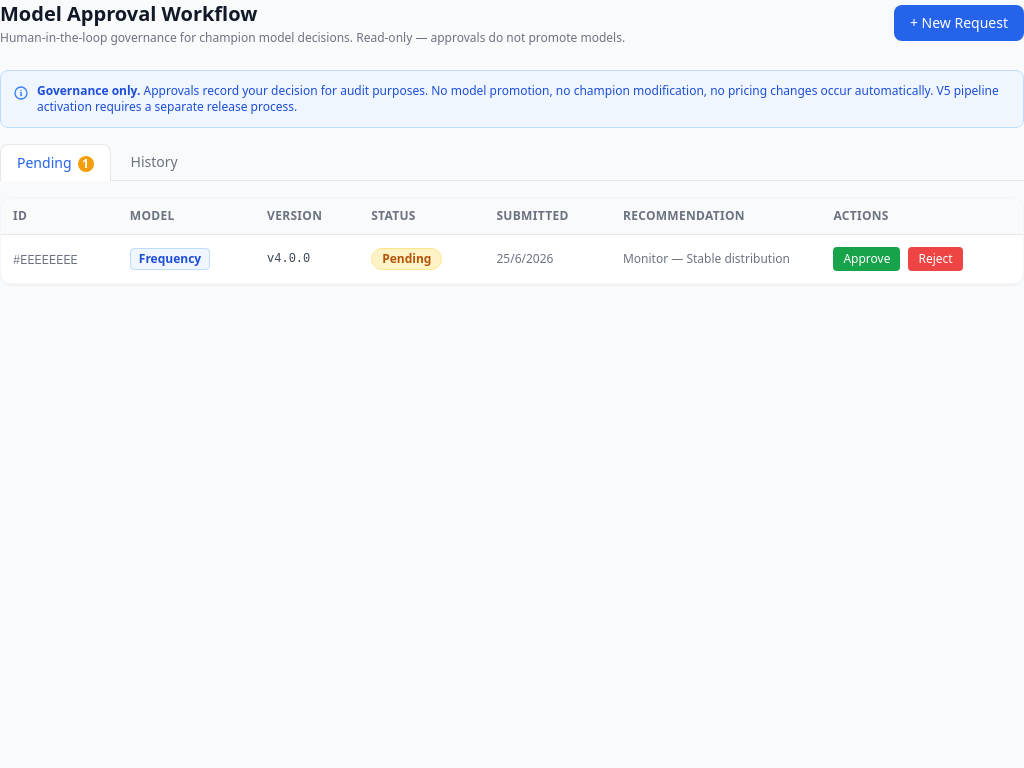
it: ApprovalPanel — approve flow › closes dialog on Cancel
Click the button with test id "approve-btn": (867, 259) x1=833 y1=247 x2=900 y2=271
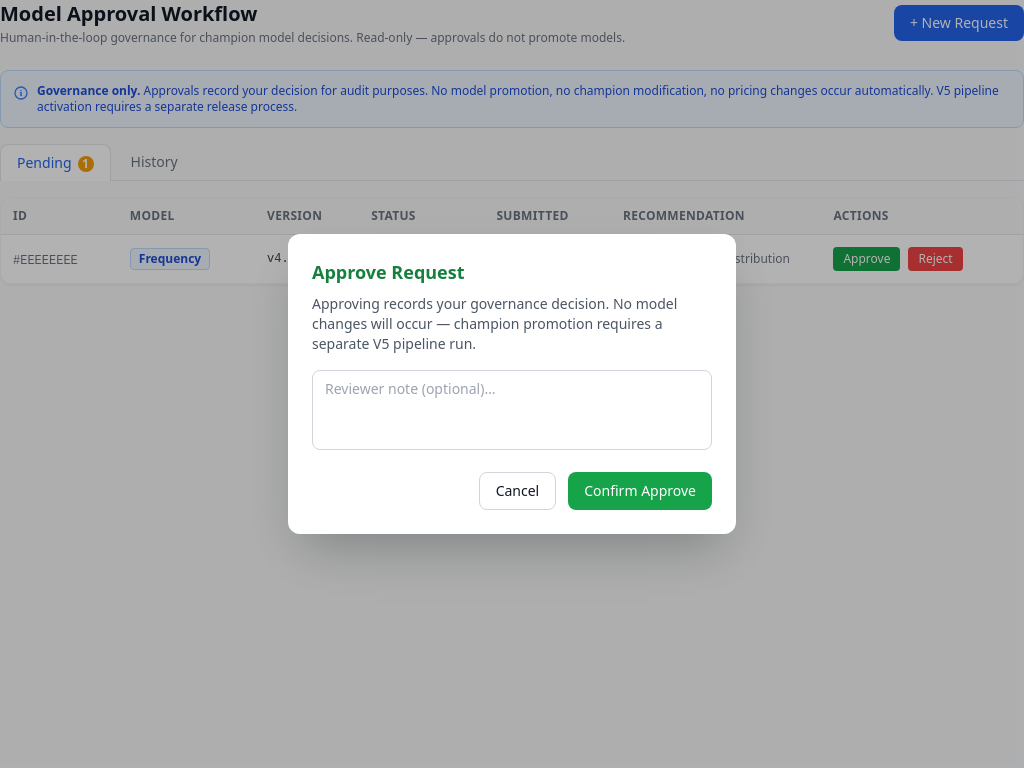
Now the element with test id "review-dialog" is shown
Click the button "Cancel": (517, 491) x1=479 y1=472 x2=556 y2=510
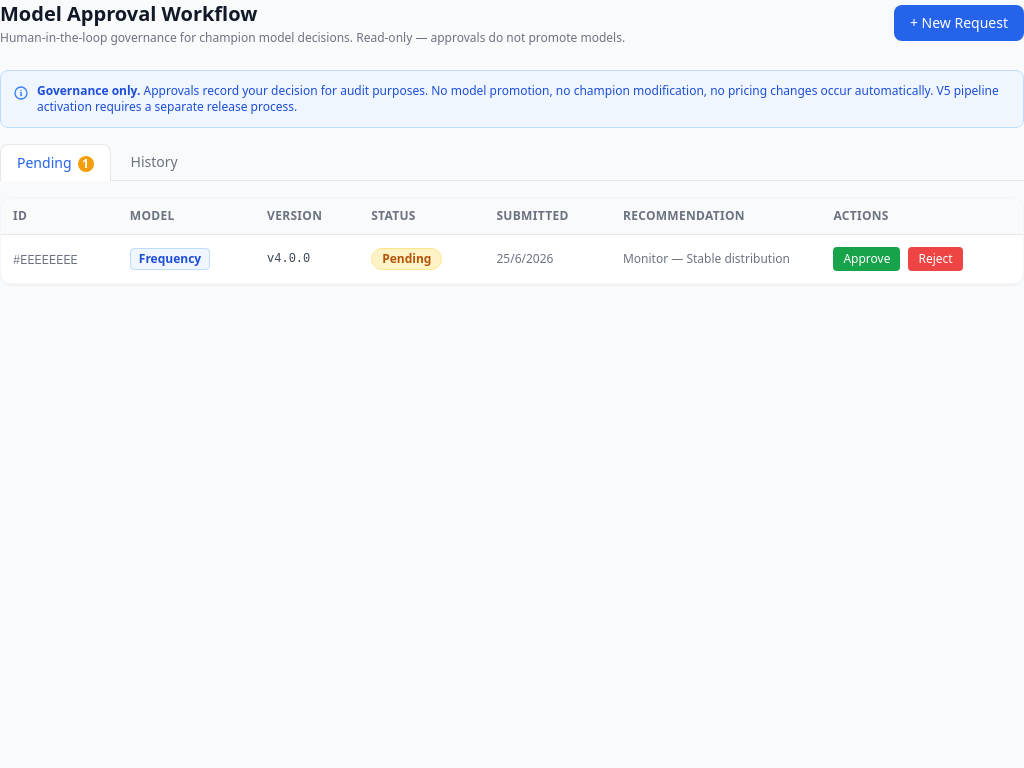
Now the element with test id "review-dialog" is gone
